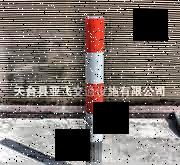bench: (79, 13, 107, 164)
